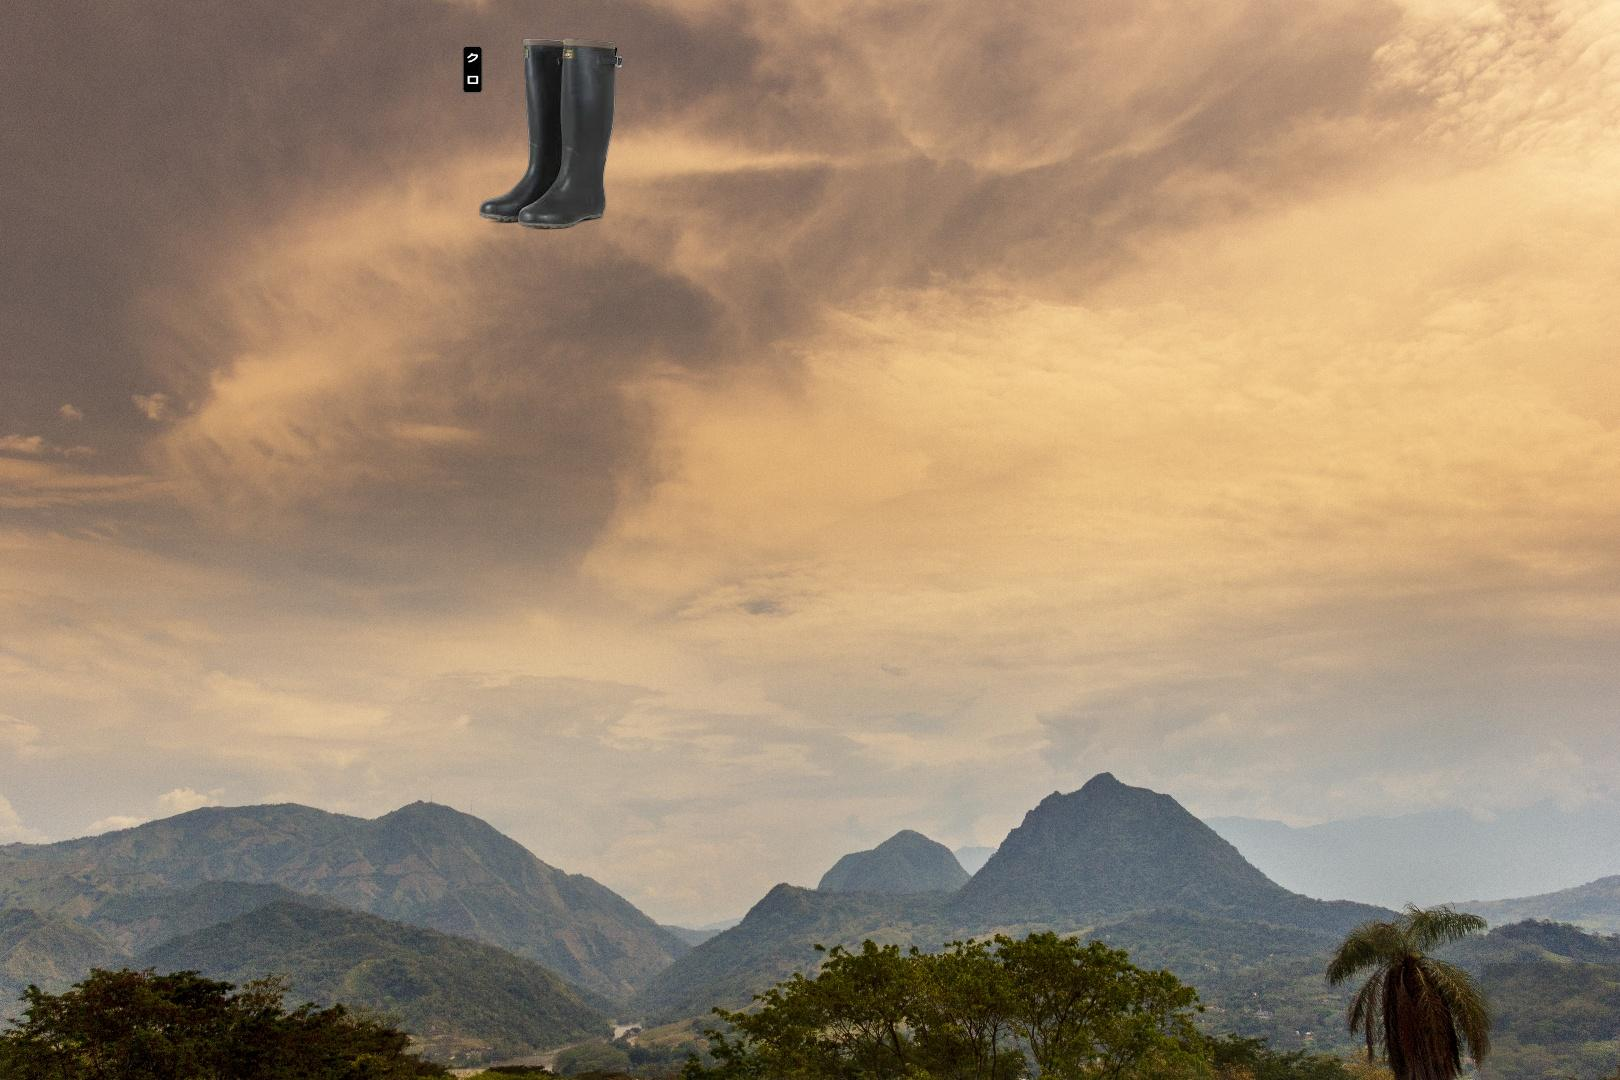shoes: (460, 35, 626, 231)
trashbox-cardboard: (1481, 963, 1620, 1080)
